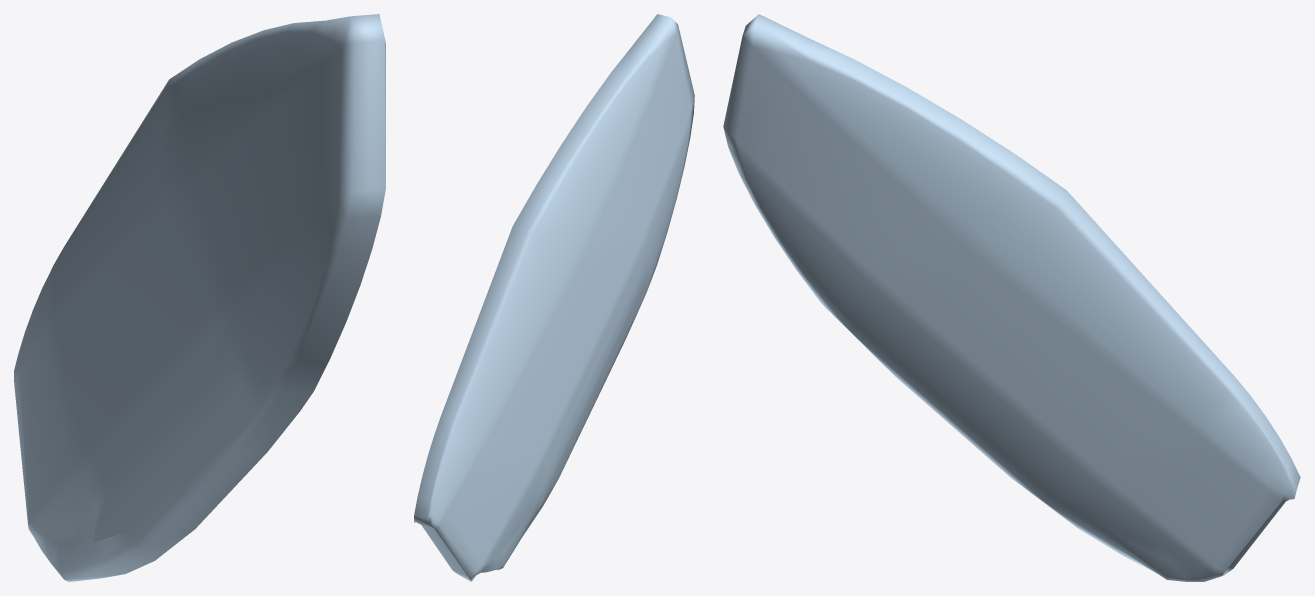
The model's file is ala1.obj.
3 renders of one model, left to right at view 1: azimuth 30°, elevation 25°; view 2: azimuth 150°, elevation 25°; view 3: azimuth 270°, elevation 25°, orthographic. The views are drawn at different scales.
Visible parts, largest first — view 1: navyala1:pCube1; view 2: navyala1:pCube1; view 3: navyala1:pCube1.
Boxes of the visible parts, x1,y1,x2,y2 form: navyala1:pCube1: [14, 14, 385, 581]; navyala1:pCube1: [414, 14, 694, 581]; navyala1:pCube1: [723, 14, 1300, 581].
Bounding box in the file's own units: 0.2738 × 1.66 × 1.58.
Materials: 1 (1 with a texture image).
